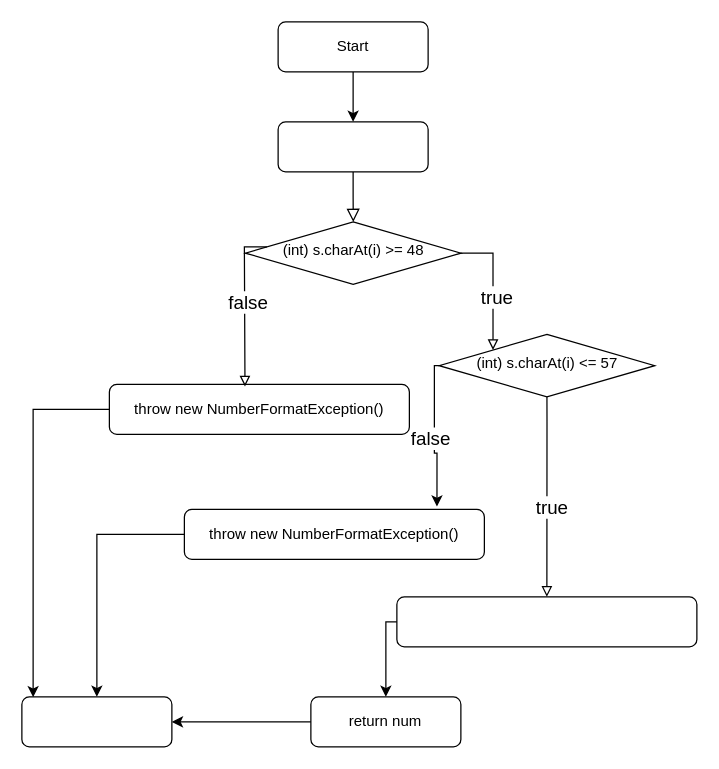
This 719x769 diagram has some shape labels left out. The centre of each missing label's shape, as x and y in pixels:
End: pixel 96 721
int num = 0: pixel 352 146
num = num * 10 + ((int) s.charAt(i) - 48): pixel 546 621
